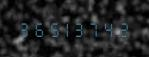five: (45, 20, 58, 37)
four: (101, 20, 114, 37)
one: (59, 20, 72, 37)
seven: (87, 20, 100, 37)
six: (31, 20, 44, 37)
three: (17, 20, 30, 37), (73, 20, 86, 37)
two: (115, 20, 128, 37)
